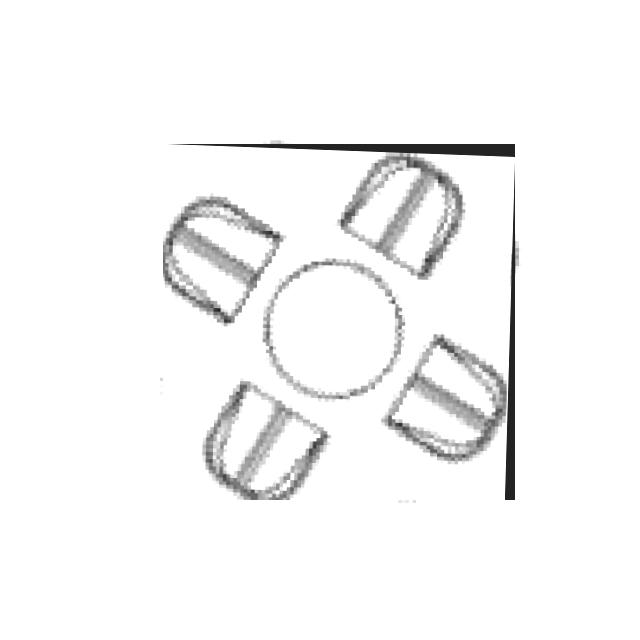table: (164, 144, 516, 500)
